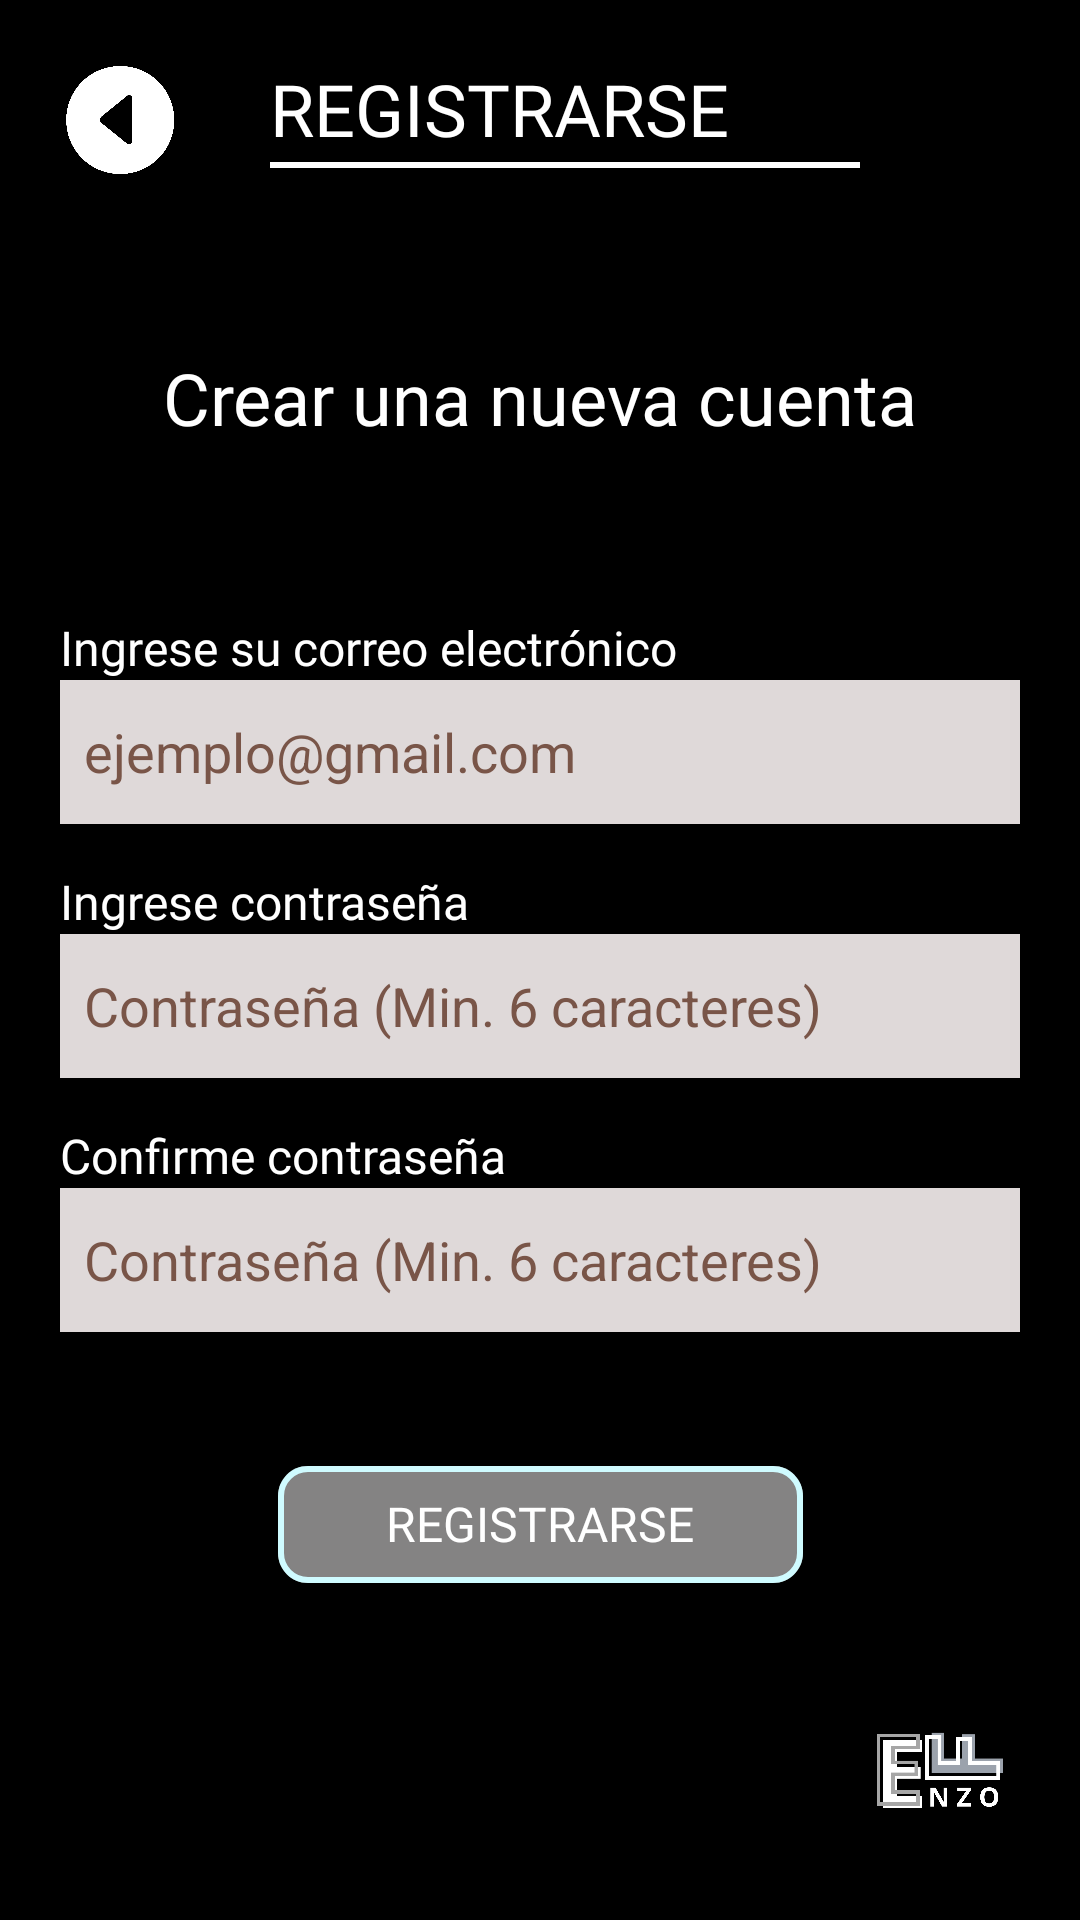

Icon click points for this 1080x1920 phone screenshot, format point (x, y):
Boton atras: point (120, 120)
